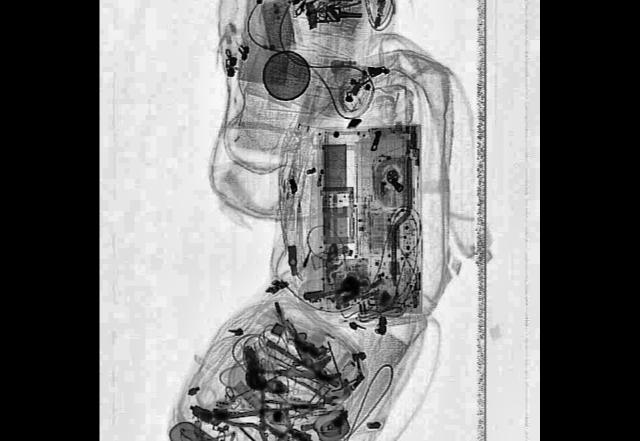Pliers: (274, 369, 341, 428)
